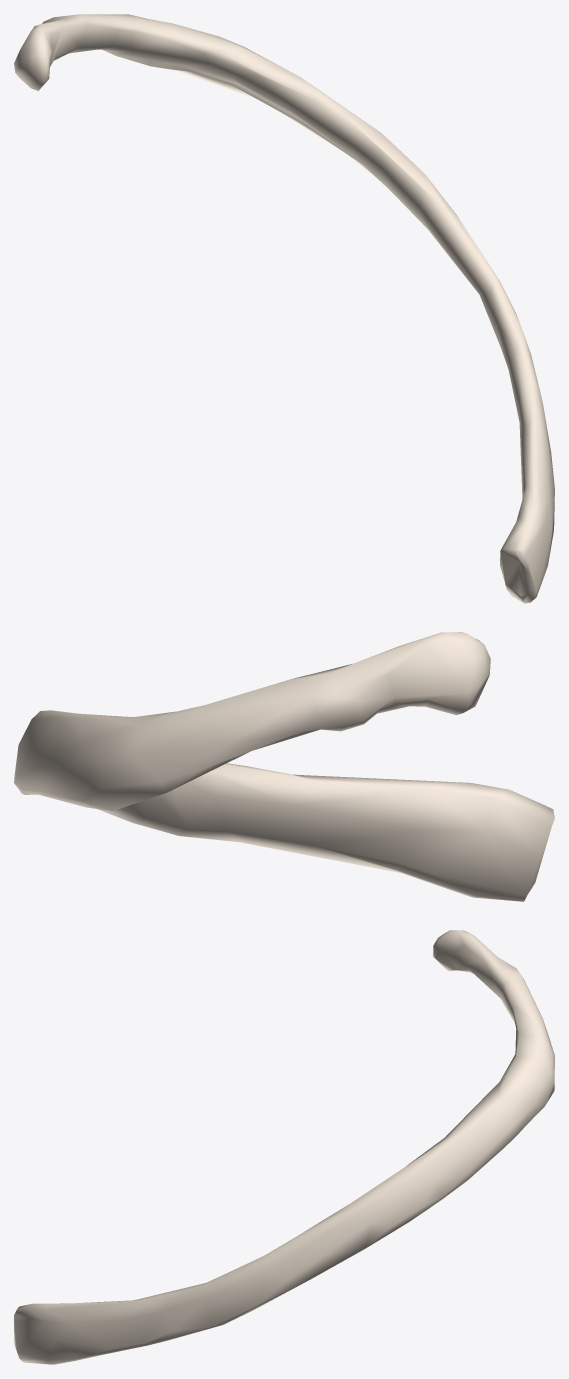
Rendered from left_rib_6.glb.
3 renders of one model, top to bottom at view 1: azimuth 30°, elevation 25°; view 2: azimuth 150°, elevation 25°; view 3: azimuth 270°, elevation 25°, orthographic. The views are drawn at different scales.
Parts seen in each view (by area): view 1: Rib (6th).r; view 2: Rib (6th).r; view 3: Rib (6th).r.
Boxes of the visible parts, x1=… form: Rib (6th).r: x1=14, y1=14, x2=554, y2=603; Rib (6th).r: x1=14, y1=632, x2=554, y2=901; Rib (6th).r: x1=14, y1=930, x2=554, y2=1364.
Size of the model in its own units: 0.1241 by 0.1382 by 0.1951.
